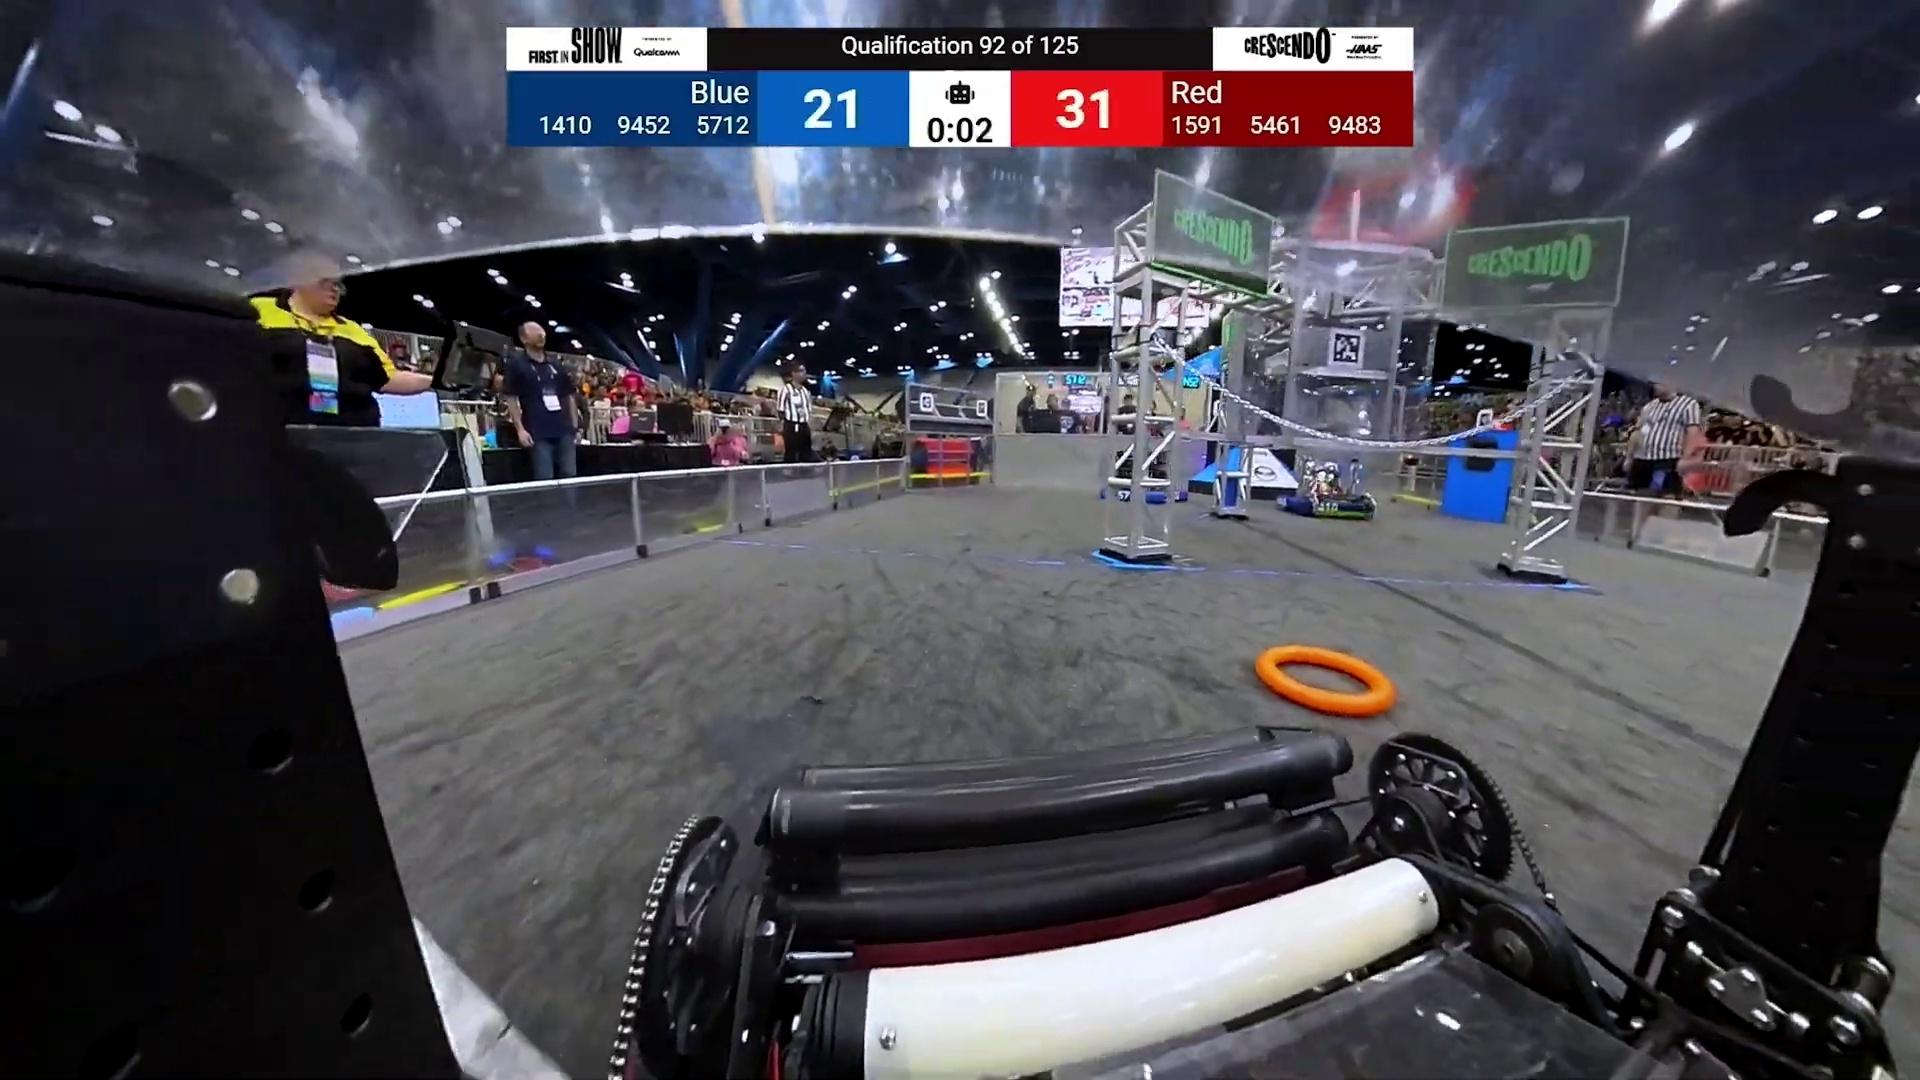robot: (1276, 456, 1377, 520), (1100, 450, 1188, 505)
